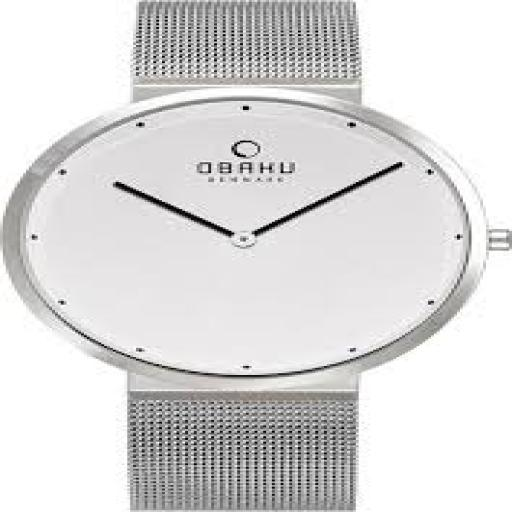KolSaati: (3, 0, 511, 512)
